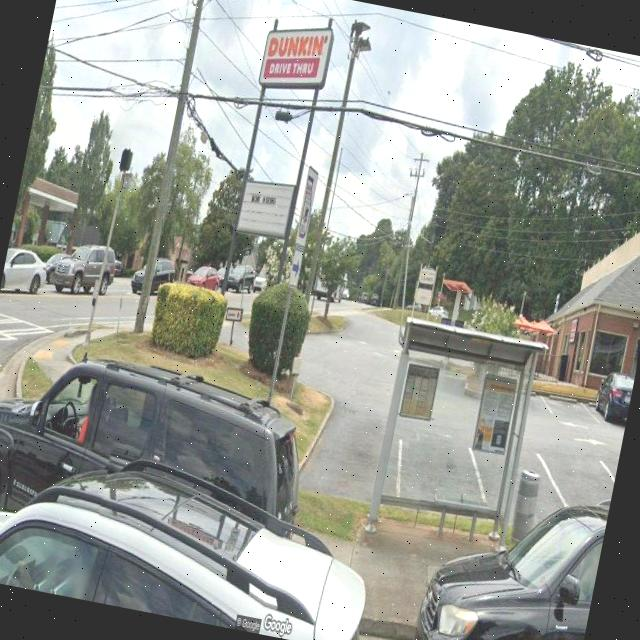seating: (426, 488, 492, 546)
shelter: (363, 316, 550, 566)
trash_can: (506, 468, 542, 552)
